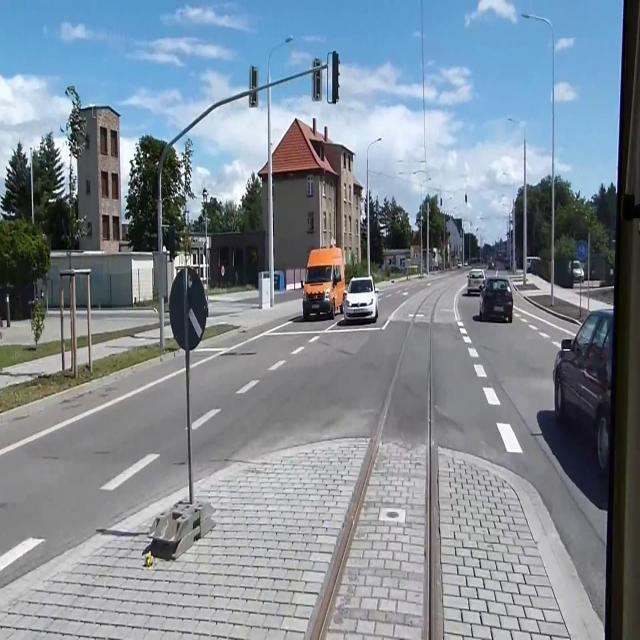rail: (278, 265, 482, 640)
